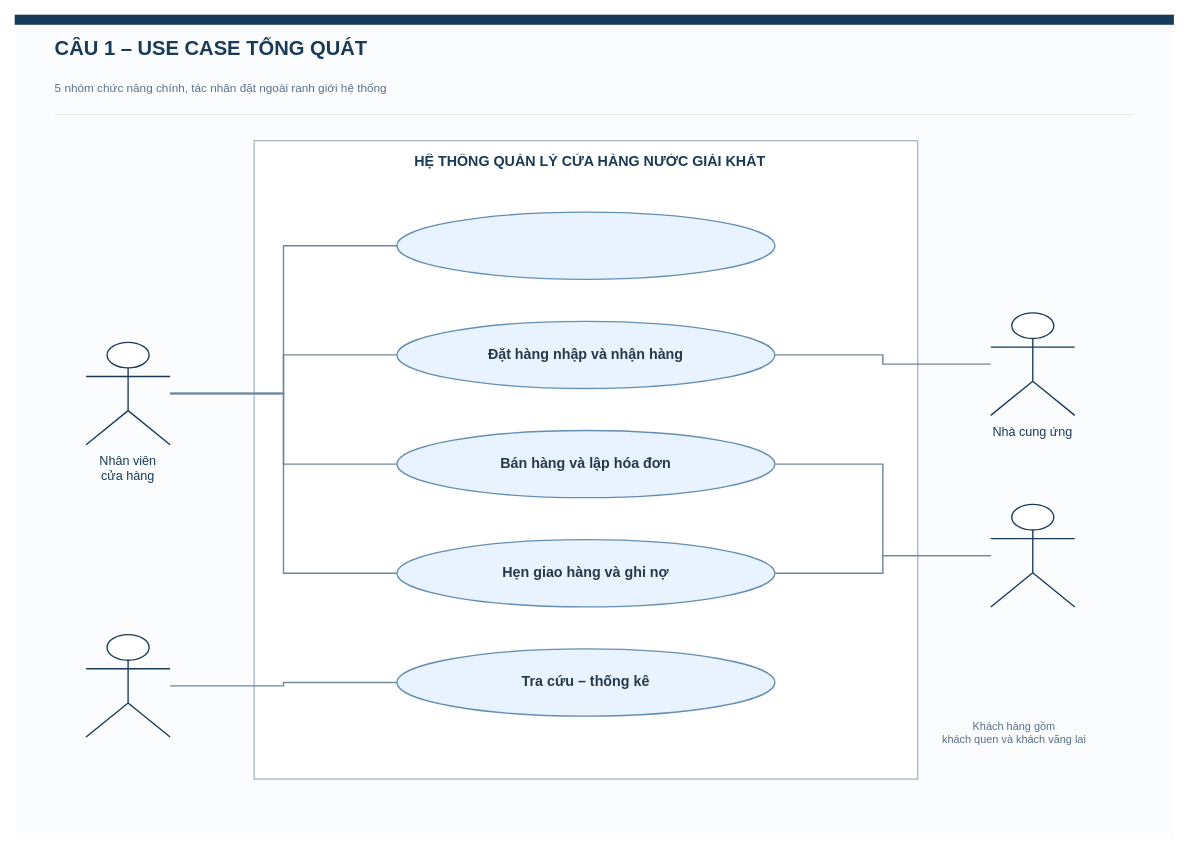
Image size: 1188x852. Some labels were removed from this diagram. The centre of each missing label's shape, as x and y in pixels:
"Khách hàng" goes at [1032,555].
"Quản lý" goes at [127,685].
"Quản lý loại nước giải khát và nhà cung ứng" goes at [585,245].
